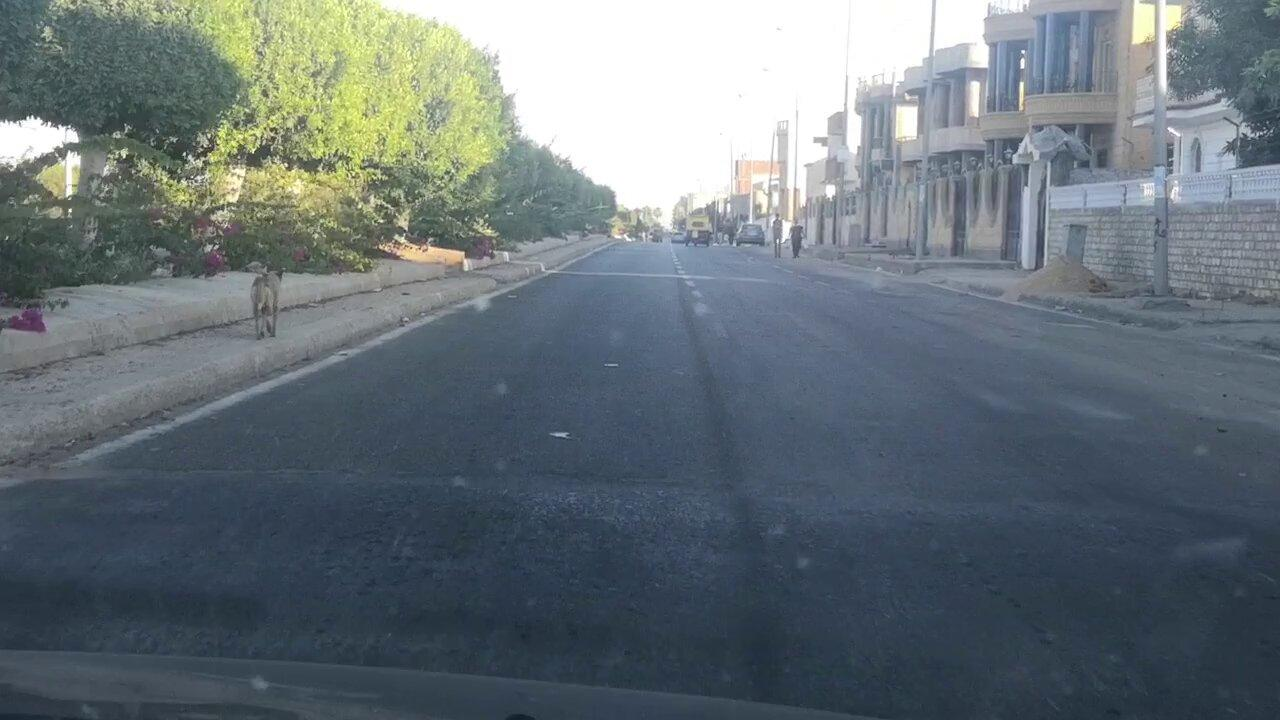Bump: (42, 462, 1280, 678)
